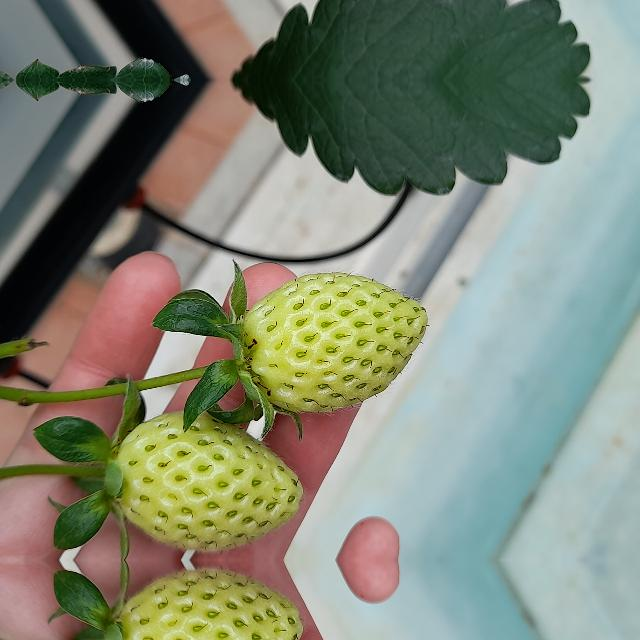Health_25: (102, 407, 308, 555), (245, 272, 427, 412), (102, 565, 308, 640)
